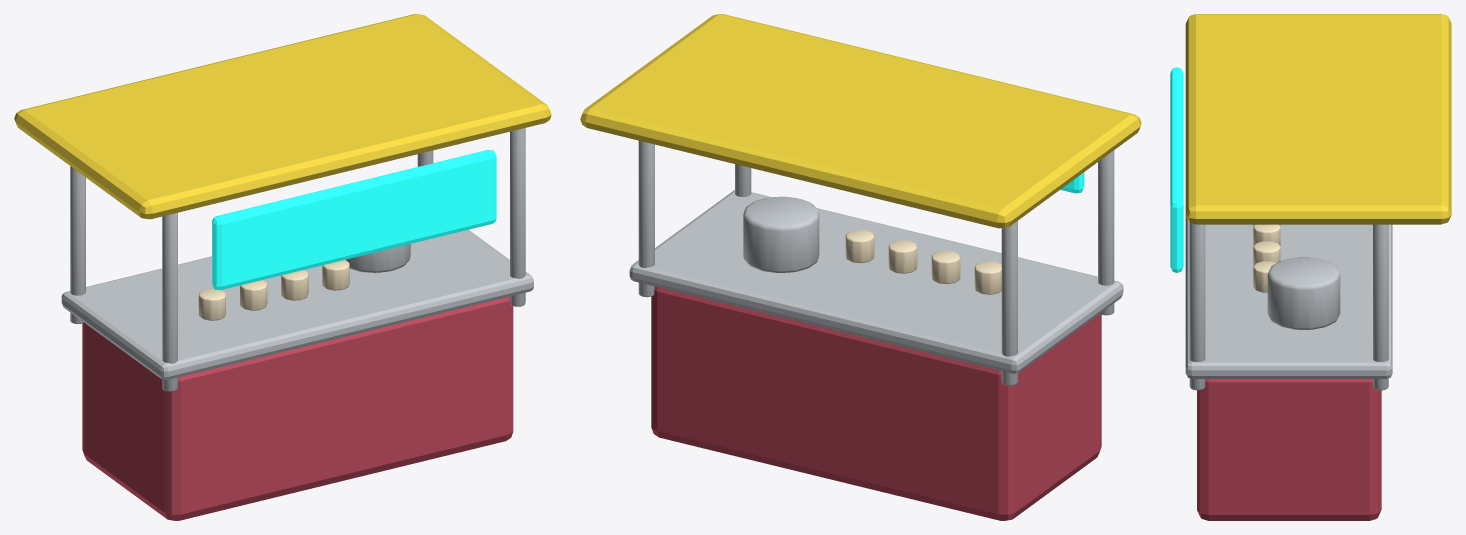
Rendered from chai_stall.glb.
3 views of the same model, side by side, from view 1: azimuth 30°, elevation 25°; view 2: azimuth 150°, elevation 25°; view 3: azimuth 270°, elevation 25° (orthographic). The views are drawn at different scales.
Parts seen in each view (by area): view 1: Chai_Counter, Chai_Canopy, Chai_Counter_Top, Chai_Sign, Chai_Pole, Chai_Pole.002, Chai_Pole.001, Chai_Kettle, Chai_Cup_0, Chai_Cup_2, Chai_Cup_3, Chai_Cup_1; view 2: Chai_Counter, Chai_Canopy, Chai_Counter_Top, Chai_Kettle, Chai_Pole.001, Chai_Pole.003, Chai_Pole, Chai_Cup_2, Chai_Cup_1, Chai_Cup_3, Chai_Cup_0; view 3: Chai_Canopy, Chai_Counter, Chai_Counter_Top, Chai_Kettle, Chai_Sign, Chai_Pole.002, Chai_Pole.003, Chai_Cup_2, Chai_Cup_1, Chai_Cup_3.
Part boxes in pixels (<box>): Chai_Counter: <box>82,296,513,520</box>; Chai_Canopy: <box>14,14,551,219</box>; Chai_Counter_Top: <box>61,229,533,379</box>; Chai_Sign: <box>212,150,496,290</box>; Chai_Pole: <box>162,212,177,391</box>; Chai_Pole.002: <box>510,128,525,306</box>; Chai_Pole.001: <box>70,166,85,324</box>; Chai_Kettle: <box>345,244,410,272</box>; Chai_Cup_0: <box>198,288,225,320</box>; Chai_Cup_2: <box>281,270,308,300</box>; Chai_Cup_3: <box>322,260,349,290</box>; Chai_Cup_1: <box>240,280,267,310</box>; Chai_Counter: <box>651,286,1101,520</box>; Chai_Canopy: <box>580,14,1141,228</box>; Chai_Counter_Top: <box>629,190,1123,373</box>; Chai_Kettle: <box>743,196,819,272</box>; Chai_Pole.001: <box>1001,221,1017,385</box>; Chai_Pole.003: <box>638,140,654,297</box>; Chai_Pole: <box>1098,150,1114,315</box>; Chai_Cup_2: <box>888,240,917,273</box>; Chai_Cup_1: <box>931,250,960,284</box>; Chai_Cup_3: <box>845,229,874,263</box>; Chai_Cup_0: <box>974,261,1001,294</box>; Chai_Canopy: <box>1185,14,1451,224</box>; Chai_Counter: <box>1197,379,1381,520</box>; Chai_Counter_Top: <box>1185,215,1392,378</box>; Chai_Kettle: <box>1267,257,1340,329</box>; Chai_Sign: <box>1170,67,1183,272</box>; Chai_Pole.002: <box>1189,222,1205,390</box>; Chai_Pole.003: <box>1373,224,1388,390</box>; Chai_Cup_2: <box>1253,241,1280,266</box>; Chai_Cup_1: <box>1253,224,1280,246</box>; Chai_Cup_3: <box>1253,261,1276,292</box>.
Bounding box in the file's own units: 3.2 × 2.48 × 1.9.
